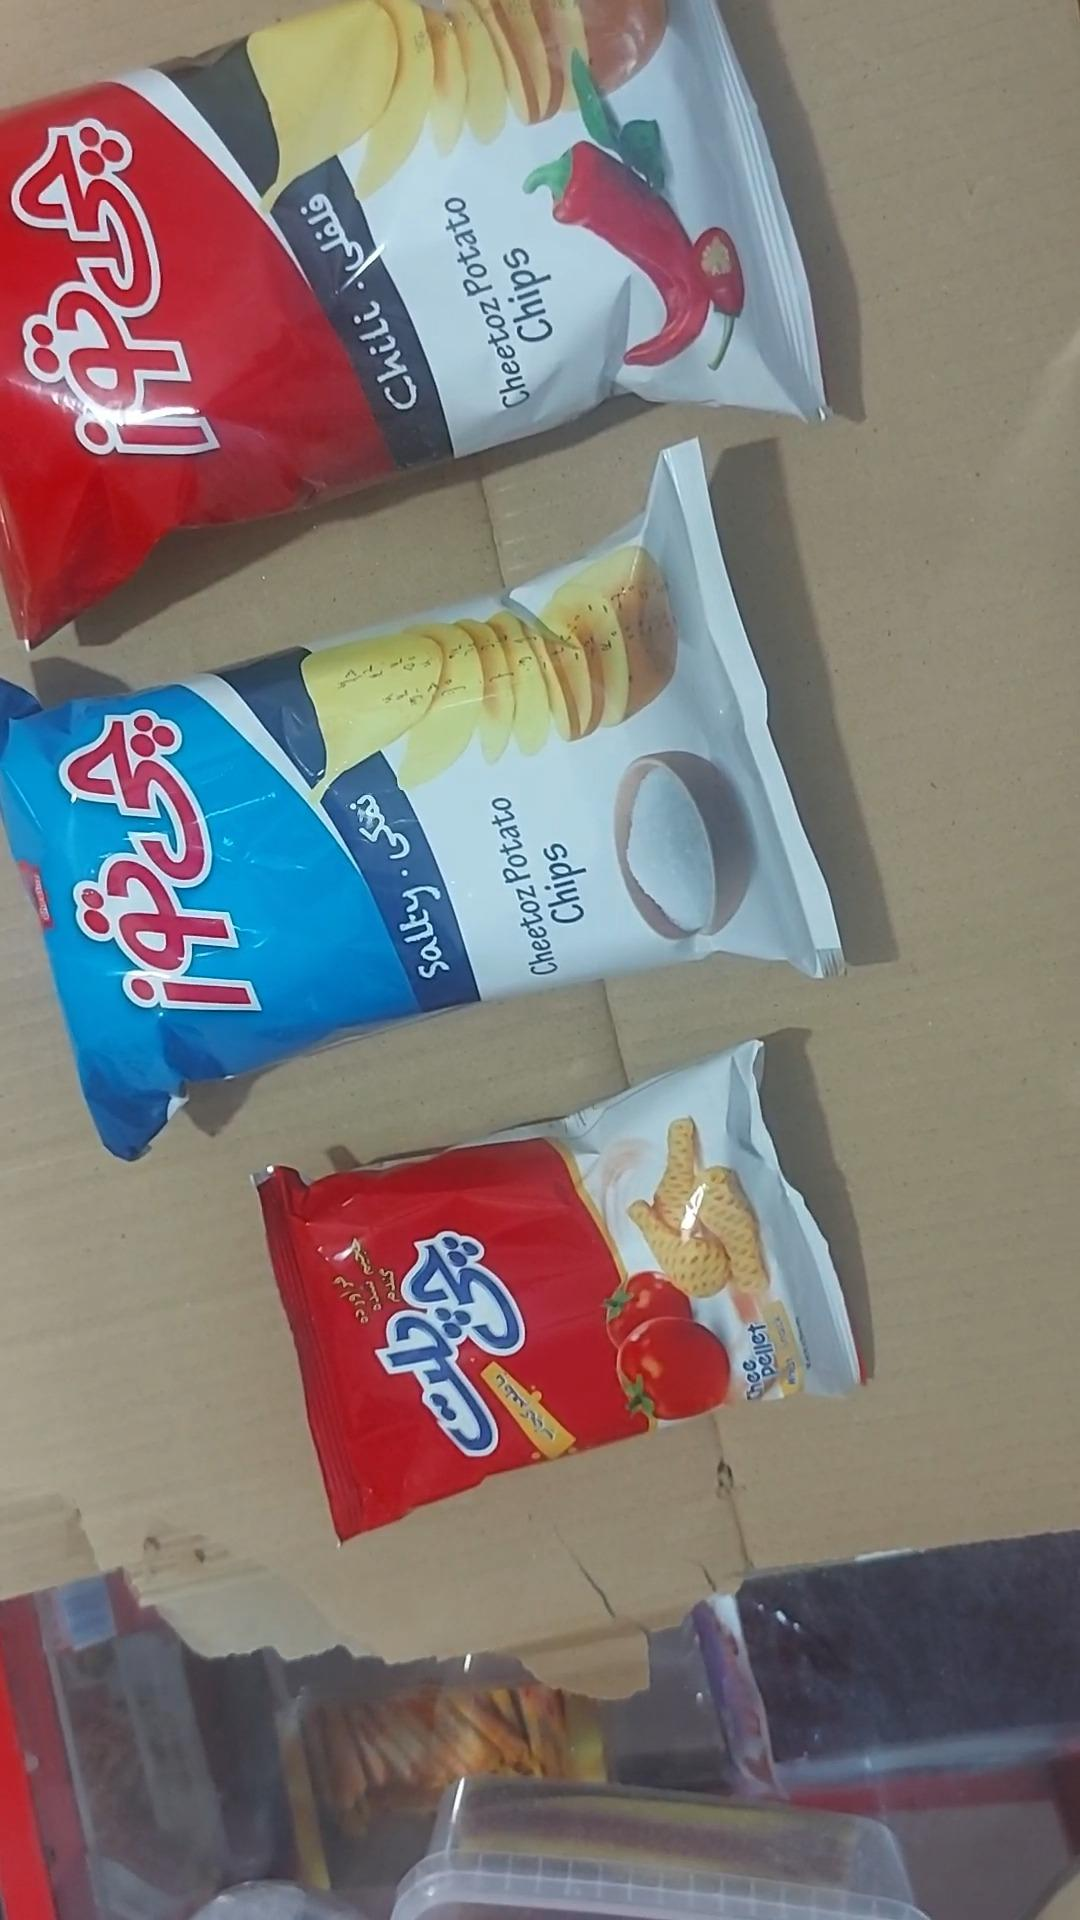Chee pellet ketchup: (251, 1040, 860, 1549)
Cheetoz chili chips: (0, 0, 831, 649)
Cheetoz salty chips: (0, 439, 851, 1166)
